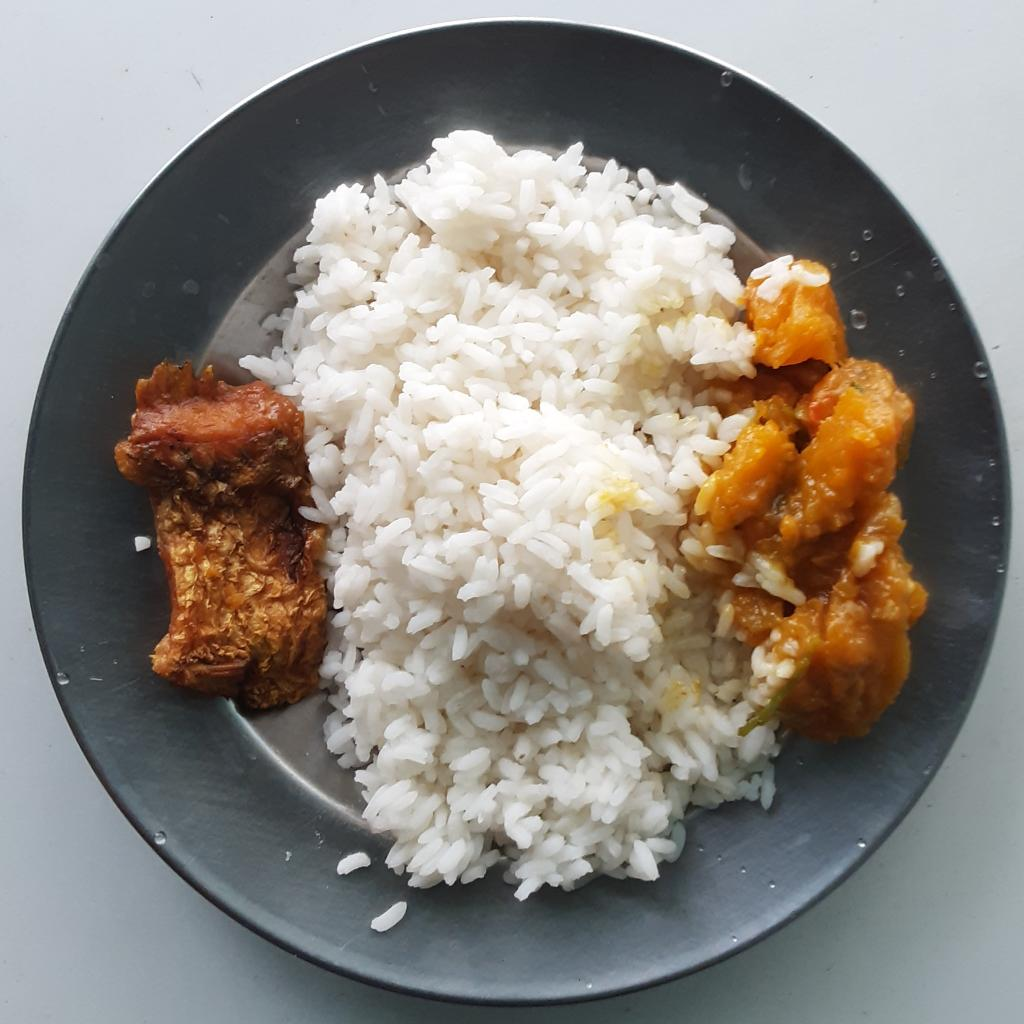fish: (119, 364, 334, 705)
kumra-vaji: (700, 262, 932, 740)
rice: (243, 127, 813, 935)
